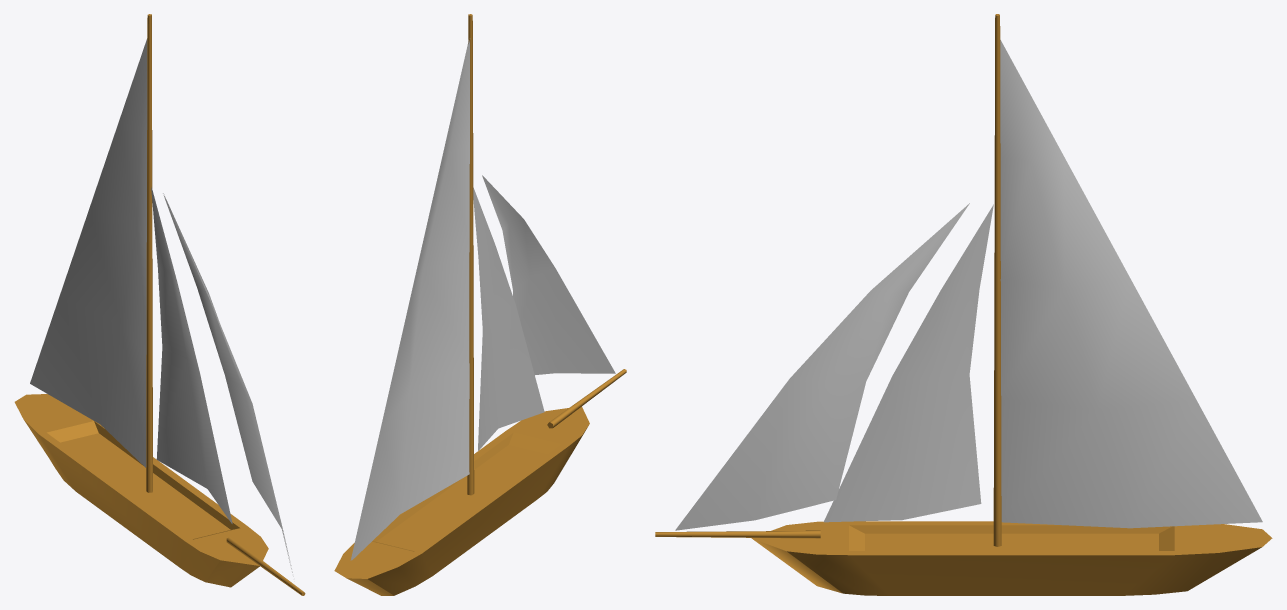
Rendered from boat_small_01.FBX.
3 renders of one model, left to right at view 1: azimuth 30°, elevation 25°; view 2: azimuth 150°, elevation 25°; view 3: azimuth 270°, elevation 25°, orthographic. The views are drawn at different scales.
Parts seen in each view (by area): view 1: Object02, fanchuan, Object01, Object03; view 2: Object02, fanchuan, Object03, Object01; view 3: Object02, fanchuan, Object01, Object03.
Boxes of the visible parts, <box> form: Object02: <box>30,38,147,467</box>; fanchuan: <box>14,14,305,595</box>; Object01: <box>151,187,232,523</box>; Object03: <box>163,193,293,576</box>; Object02: <box>350,38,470,560</box>; fanchuan: <box>334,14,626,595</box>; Object03: <box>482,175,615,374</box>; Object01: <box>473,187,544,450</box>; Object02: <box>1000,40,1262,528</box>; fanchuan: <box>655,14,1272,595</box>; Object01: <box>824,204,993,522</box>; Object03: <box>675,203,969,530</box>.
Bounding box in the file's own units: 13.16 × 103 × 101.
